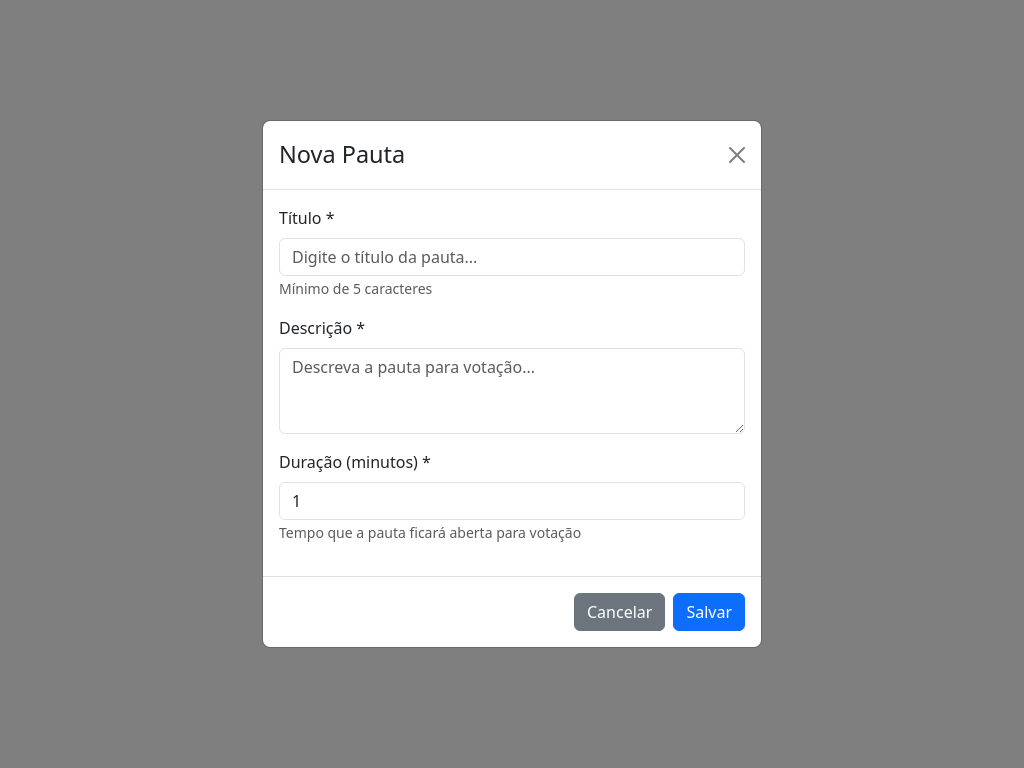
Test: PautaModalForm › deve exibir erro ao falhar na criação com mensagem específica
In the field with placeholder "Digite o título da pauta...": {"x": 512, "y": 257} [279,238,745,276], type "Pauta Válida"
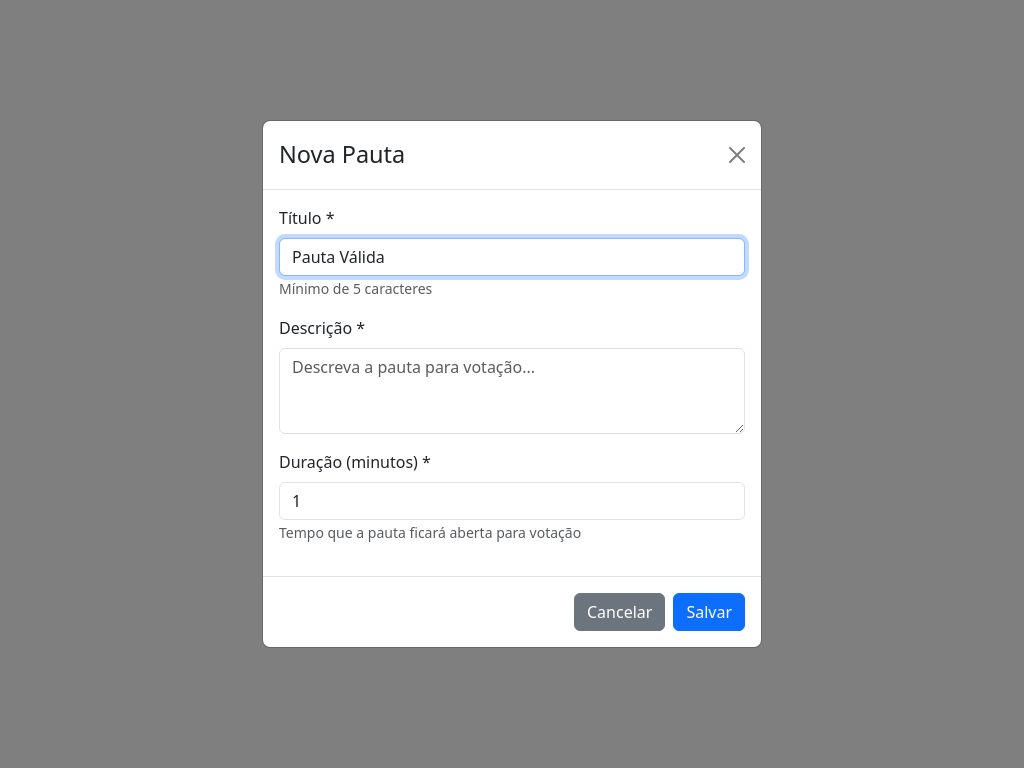
Replace the text in the number field with "5": {"x": 512, "y": 501} [279,482,745,520]
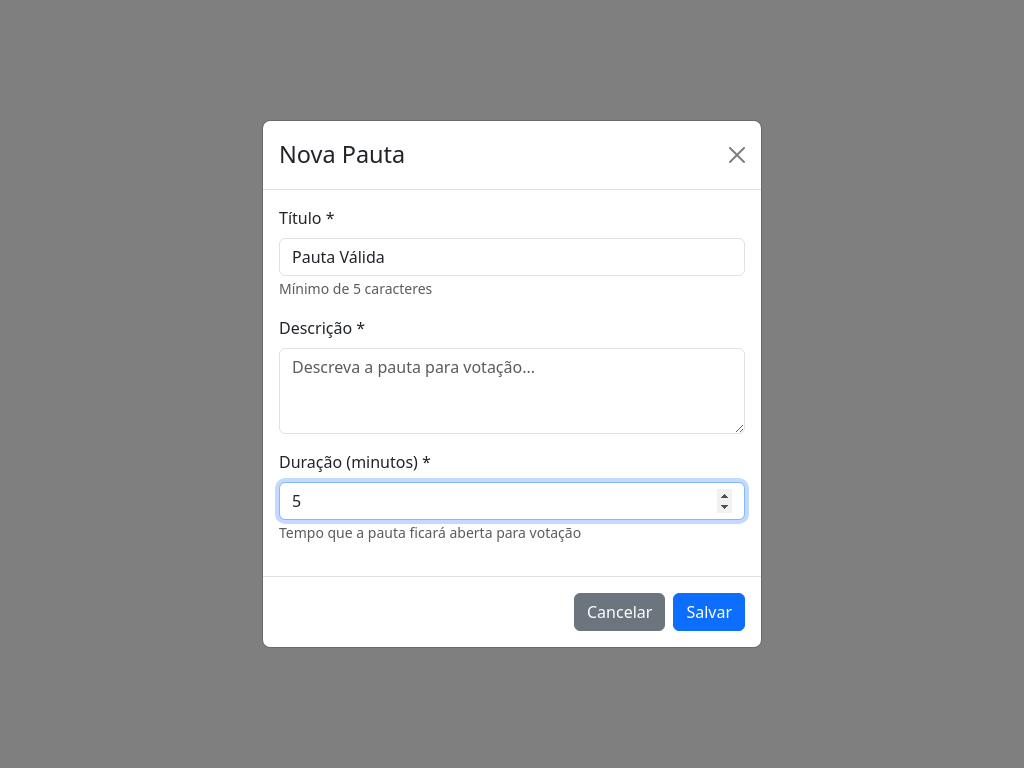
Click the button "Salvar": {"x": 709, "y": 612} [673,593,745,631]
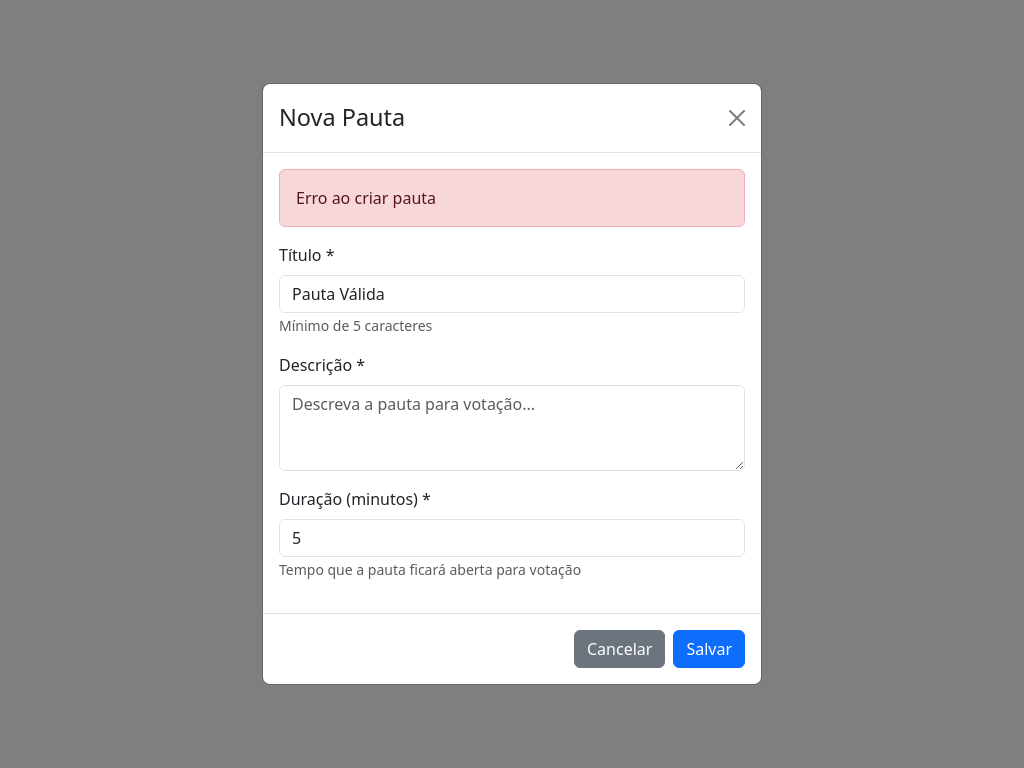
Now the text "Erro ao criar pauta" is shown, box [279,169,745,227]
